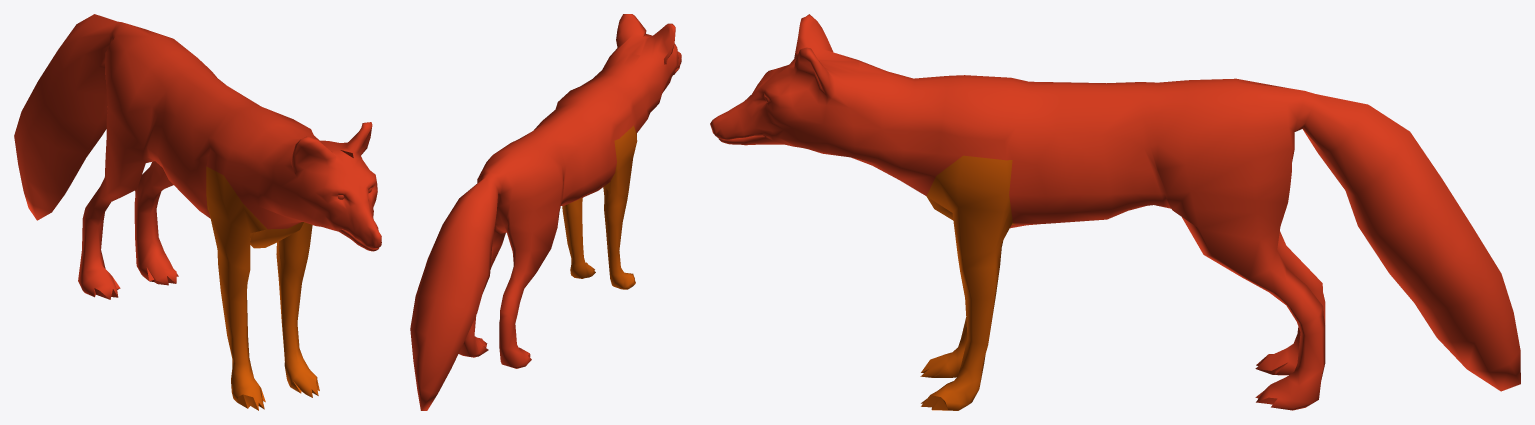
File: foxG.FBX
3 views of the same model, side by side, from view 1: azimuth 30°, elevation 25°; view 2: azimuth 150°, elevation 25°; view 3: azimuth 270°, elevation 25° (orthographic). The views are drawn at different scales.
Parts seen in each view (by area): view 1: Object003; view 2: Object003; view 3: Object003.
Part boxes in pixels (x1,y1,x2,y2): Object003: [14, 14, 381, 410]; Object003: [410, 14, 681, 410]; Object003: [710, 14, 1520, 410].
Bounding box in the file's own units: 268 × 819 × 1678.
